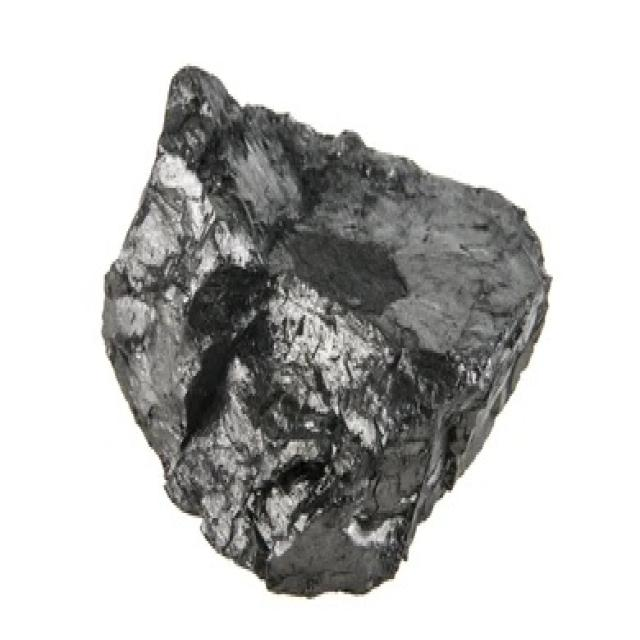Sedimentary: (96, 63, 560, 604)
